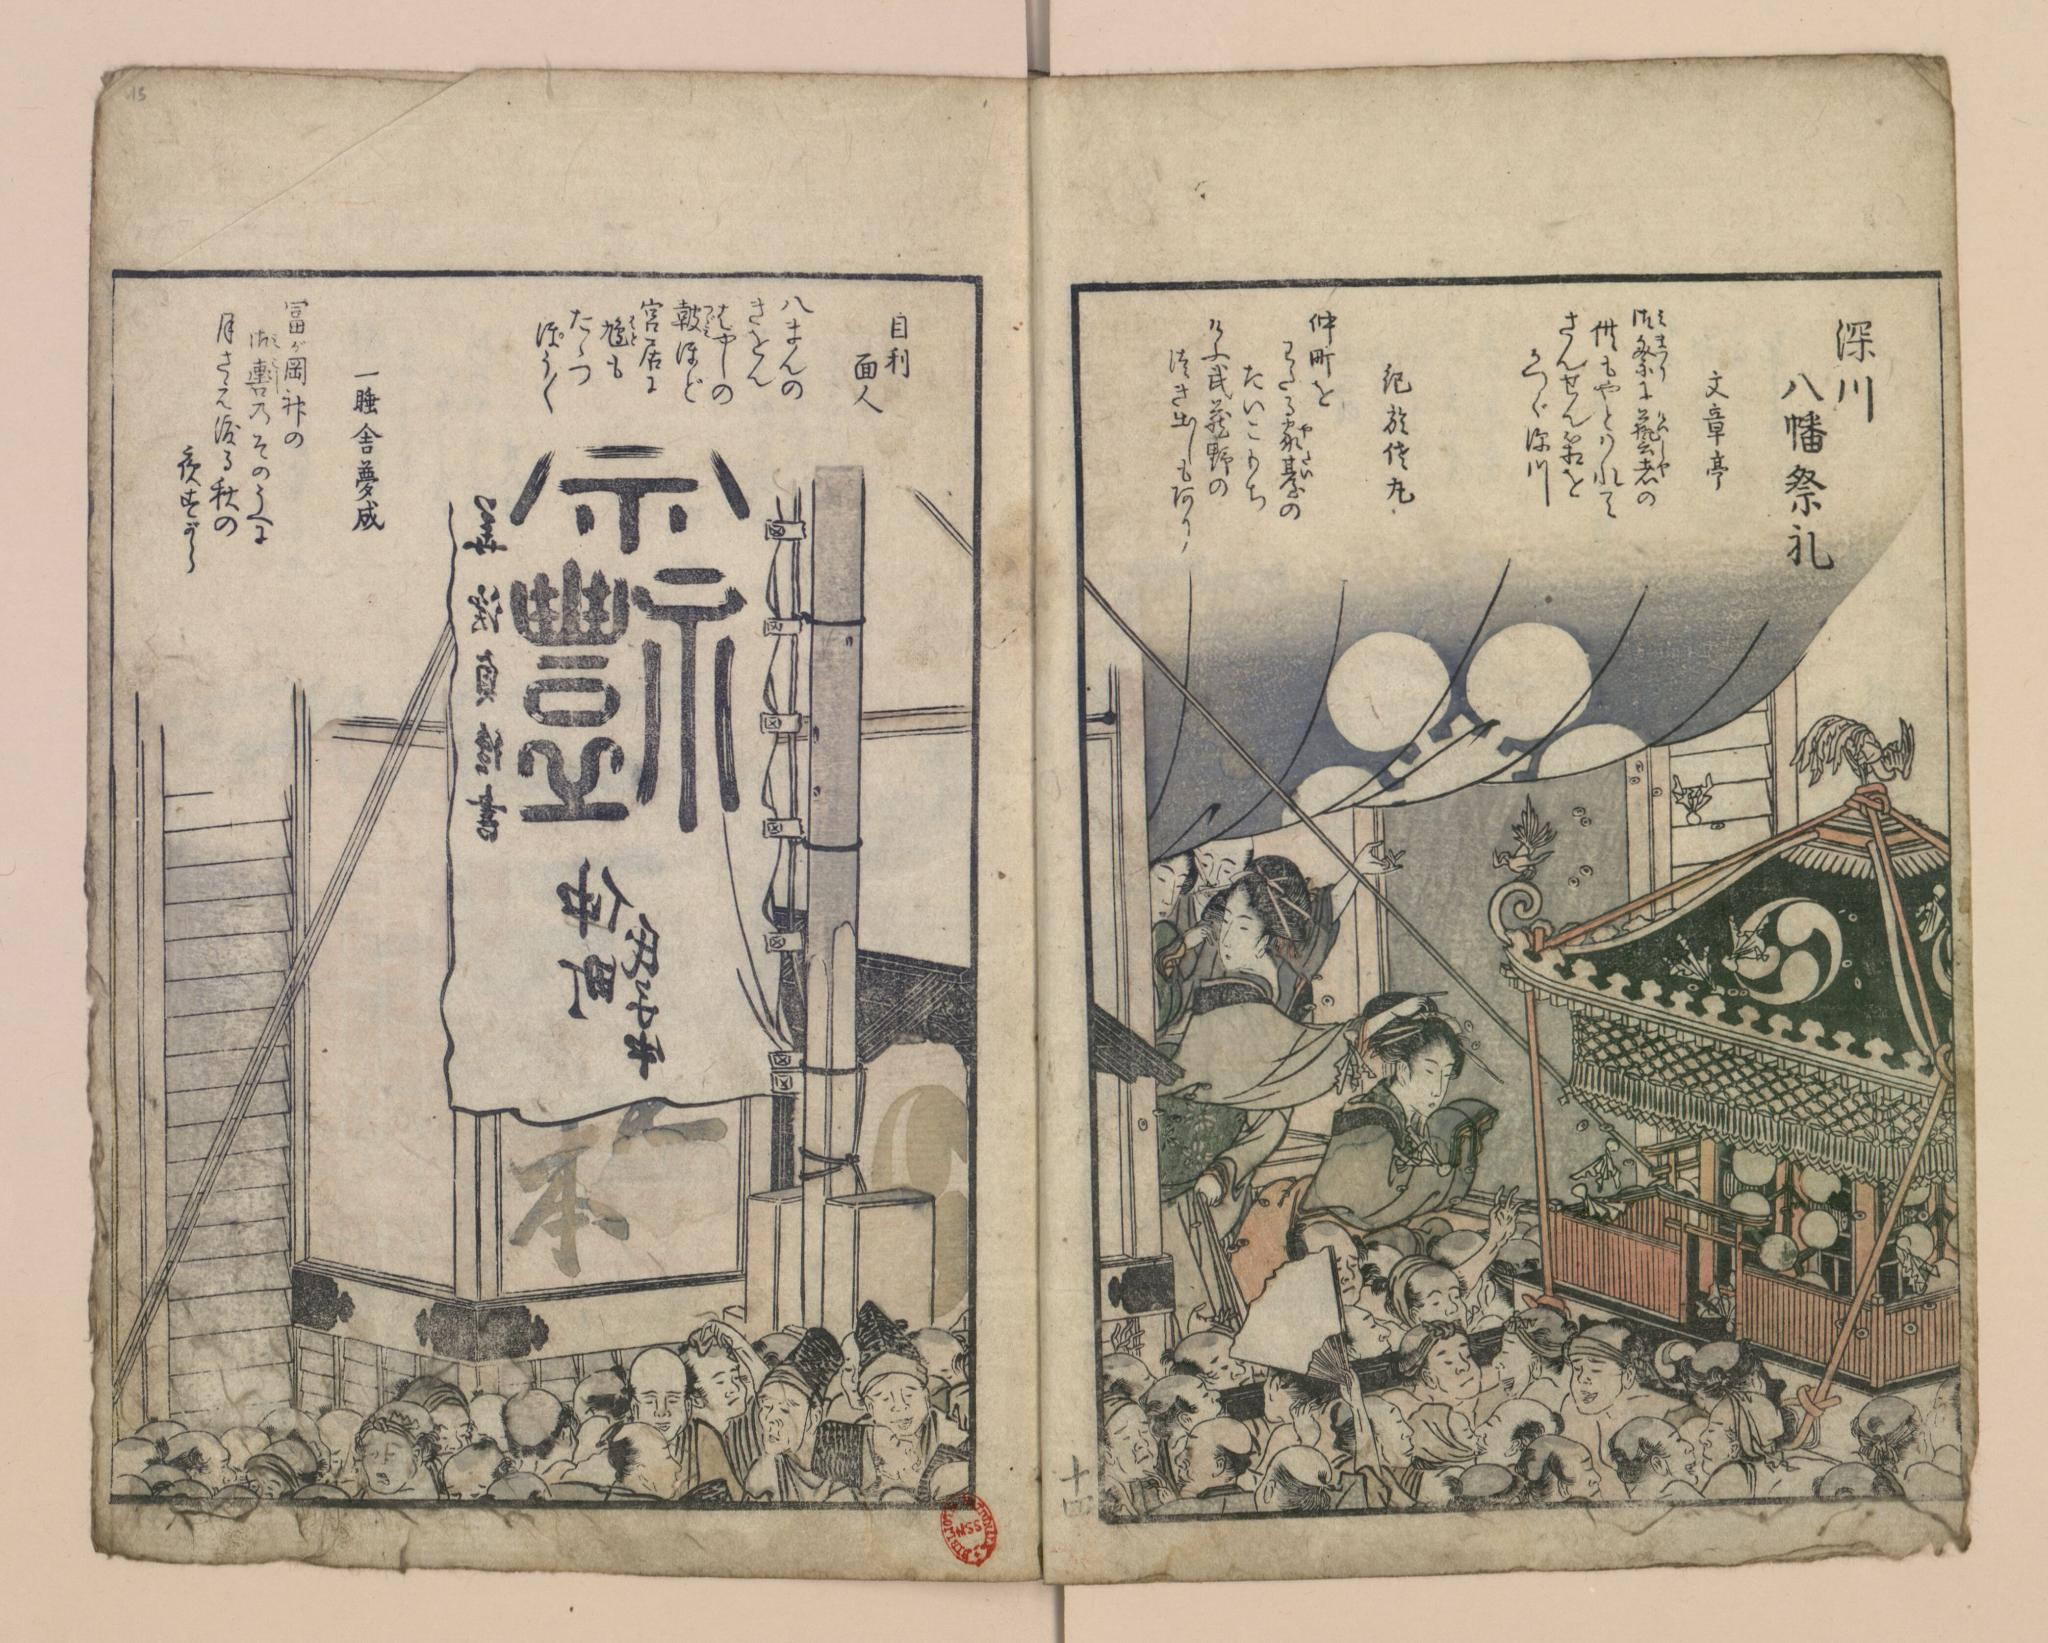MainZone-Character: (1279, 451, 1321, 501), (1632, 330, 1671, 379), (1631, 406, 1669, 453), (672, 300, 714, 339), (1631, 449, 1674, 486), (245, 354, 282, 397), (600, 314, 640, 349), (1279, 419, 1321, 449), (1629, 305, 1671, 330), (246, 330, 280, 352)
MainZone-Ruby: (1654, 334, 1669, 377), (1299, 451, 1316, 483), (702, 302, 716, 340), (270, 355, 282, 397), (628, 314, 640, 347), (1656, 407, 1669, 436), (1659, 446, 1671, 478), (1297, 419, 1314, 438), (1654, 307, 1668, 329), (270, 330, 282, 349)
